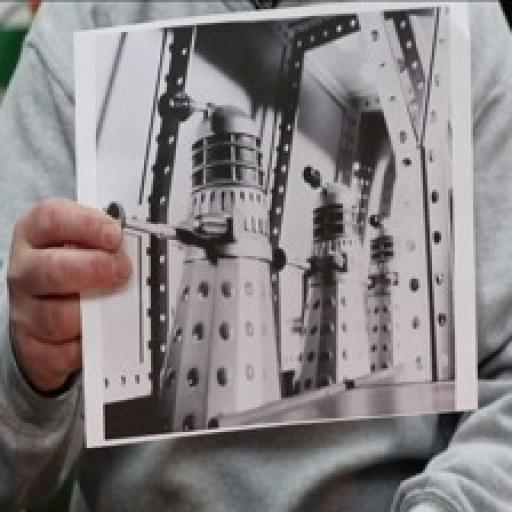dalek: (94, 93, 284, 433), (274, 160, 370, 396), (360, 214, 404, 374)
